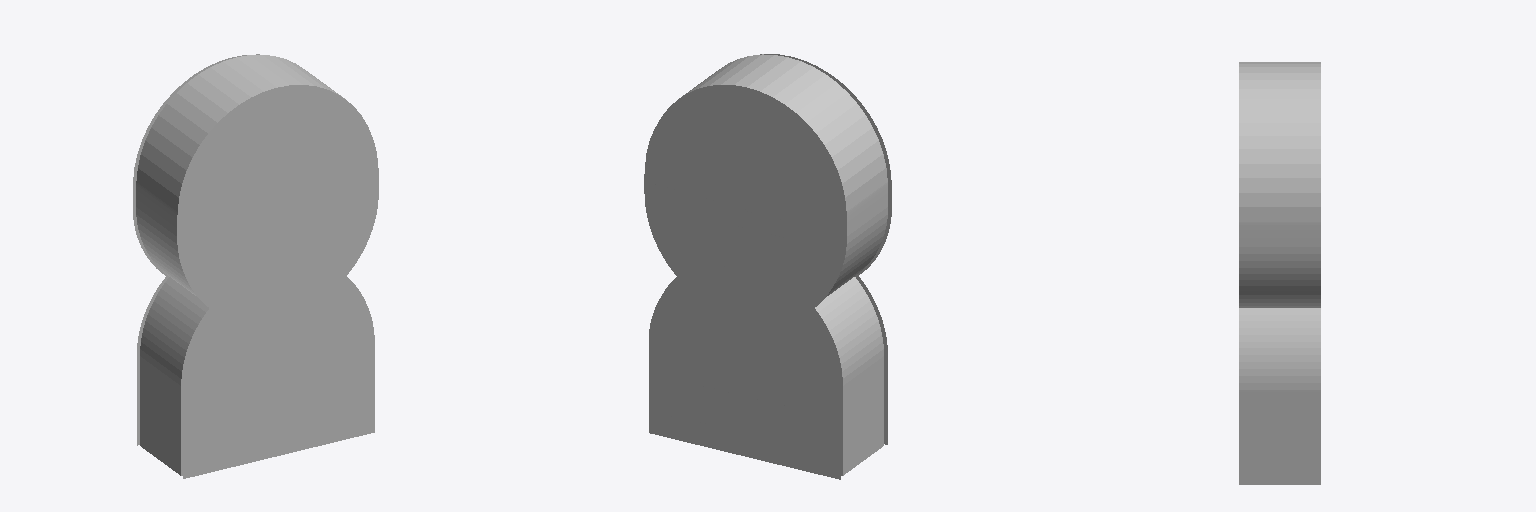
The model's file is blender_body-front-back2.obj.
3 renders of one model, left to right at view 1: azimuth 30°, elevation 25°; view 2: azimuth 150°, elevation 25°; view 3: azimuth 270°, elevation 25°, orthographic.
Parts seen in each view (by area): view 1: Curve.012, body_CUCurve, Curve.008, Curve.002, Curve.006, Curve.007, Curve.005, Curve, Curve.016, Curve.015, Curve.029; view 2: Curve.029, body_CUCurve, Curve.025, Curve.019, Curve.023, Curve.024, Curve.022, Curve.017, Curve.033, Curve.032, Curve.012, Curve.007; view 3: body_CUCurve.
Part boxes in pixels (bbox=[...]): Curve.012: bbox=[179, 88, 378, 322]; body_CUCurve: bbox=[136, 55, 368, 475]; Curve.008: bbox=[190, 134, 366, 259]; Curve.002: bbox=[183, 382, 374, 478]; Curve.006: bbox=[288, 278, 374, 421]; Curve.007: bbox=[183, 310, 269, 467]; Curve.005: bbox=[252, 354, 302, 401]; Curve: bbox=[242, 318, 314, 378]; Curve.016: bbox=[216, 440, 270, 470]; Curve.015: bbox=[286, 423, 340, 453]; Curve.029: bbox=[133, 54, 259, 277]; Curve.029: bbox=[644, 89, 844, 323]; body_CUCurve: bbox=[659, 54, 887, 475]; Curve.025: bbox=[656, 137, 832, 260]; Curve.019: bbox=[649, 383, 840, 479]; Curve.023: bbox=[753, 311, 840, 468]; Curve.024: bbox=[649, 278, 735, 421]; Curve.022: bbox=[718, 354, 768, 401]; Curve.017: bbox=[707, 318, 781, 380]; Curve.033: bbox=[682, 423, 736, 454]; Curve.032: bbox=[752, 441, 806, 471]; Curve.012: bbox=[760, 54, 891, 276]; Curve.007: bbox=[856, 276, 887, 433]; body_CUCurve: bbox=[1239, 62, 1320, 484].
Size of the model in its own units: 0.4536 by 0.7888 by 0.1817.